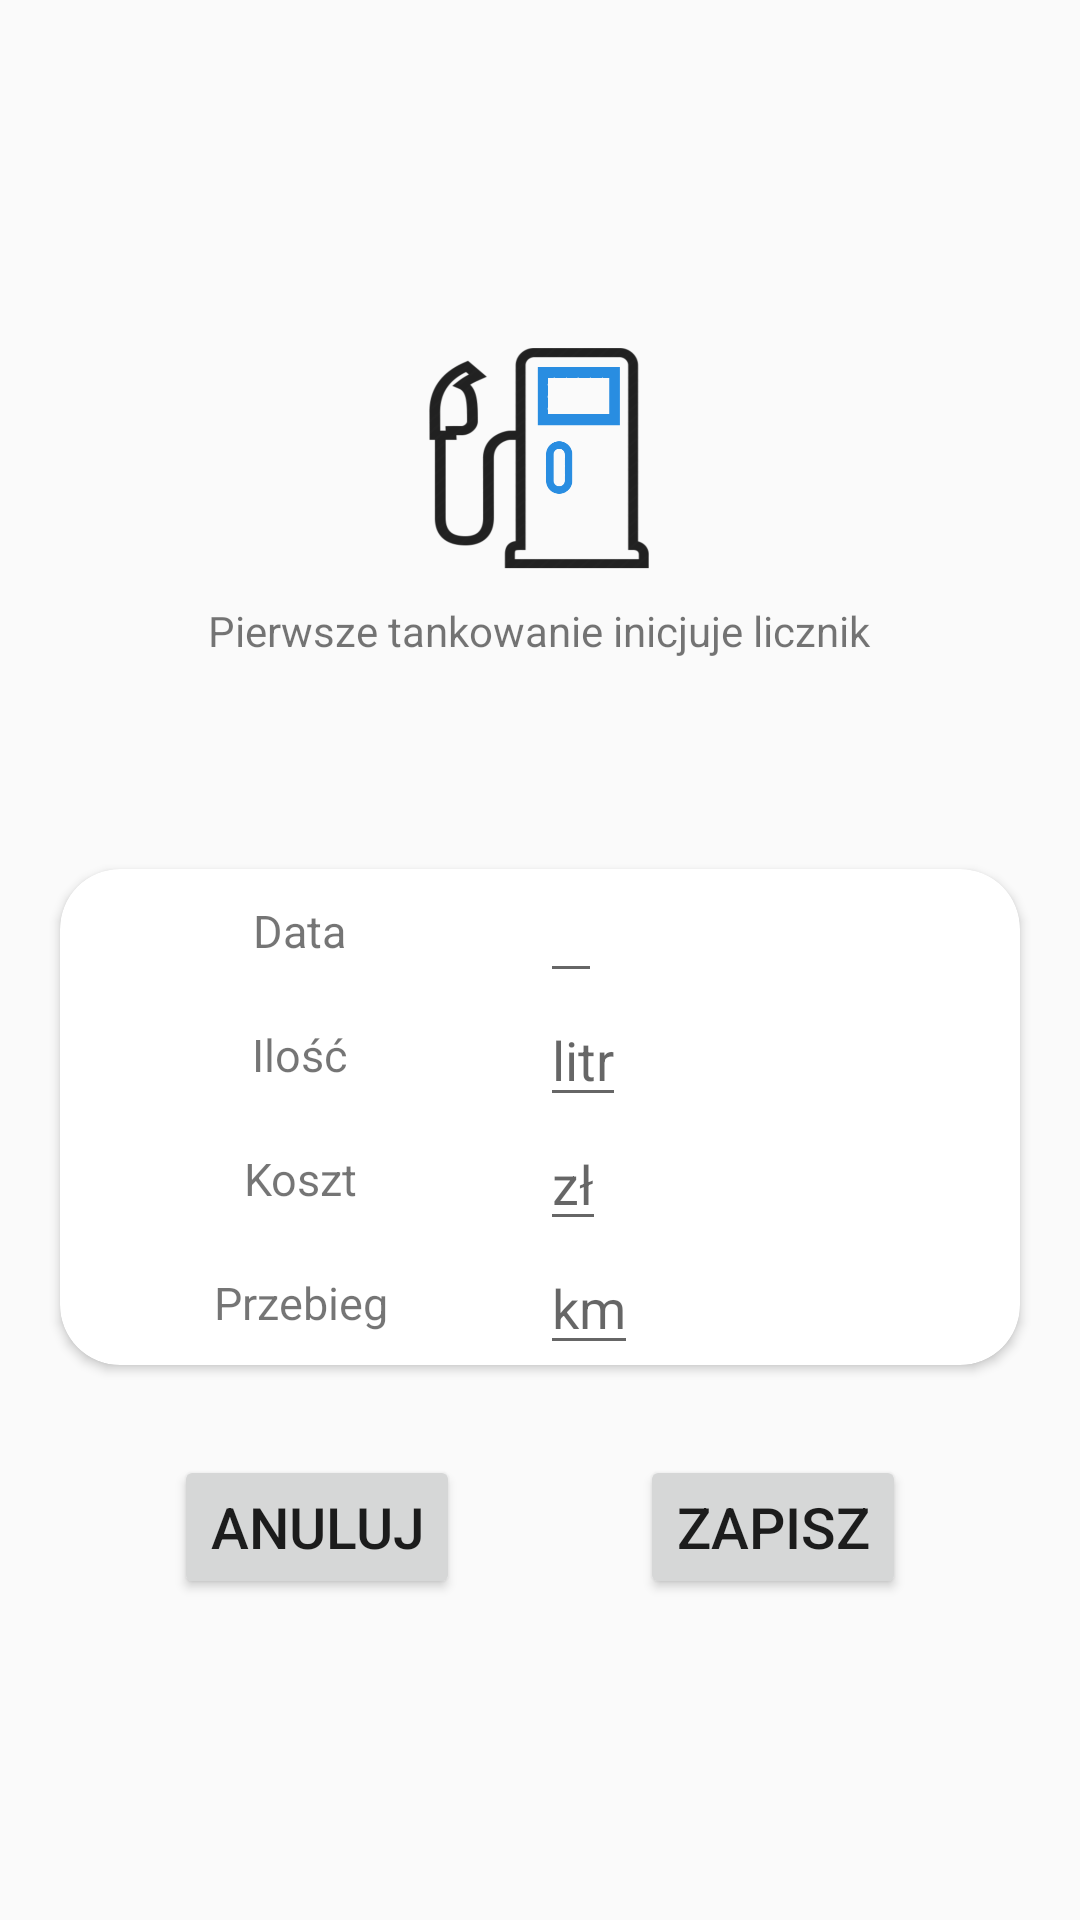

Screen size 1080 x 1920. Icon name, then its center in pixels as (x,y):
paliwo: (539,458)
